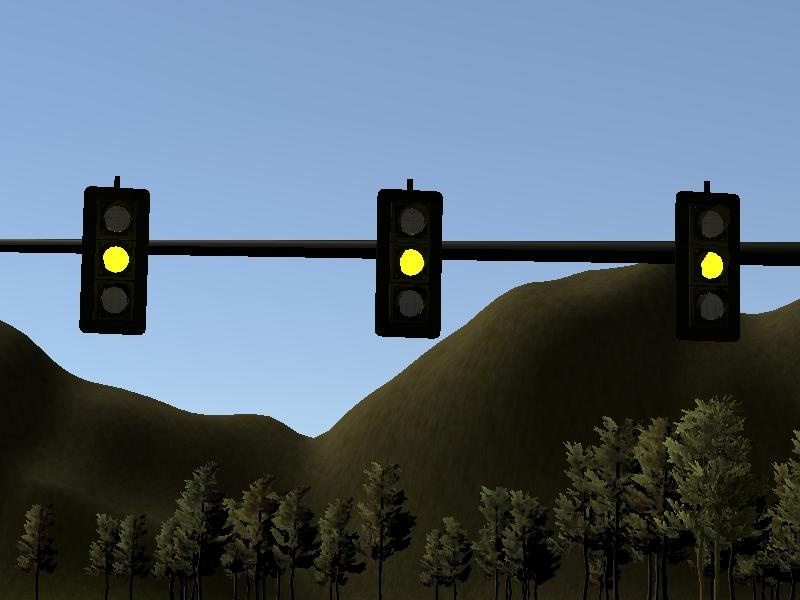yellow: (364, 169, 449, 344), (71, 170, 158, 340), (668, 172, 749, 349)
